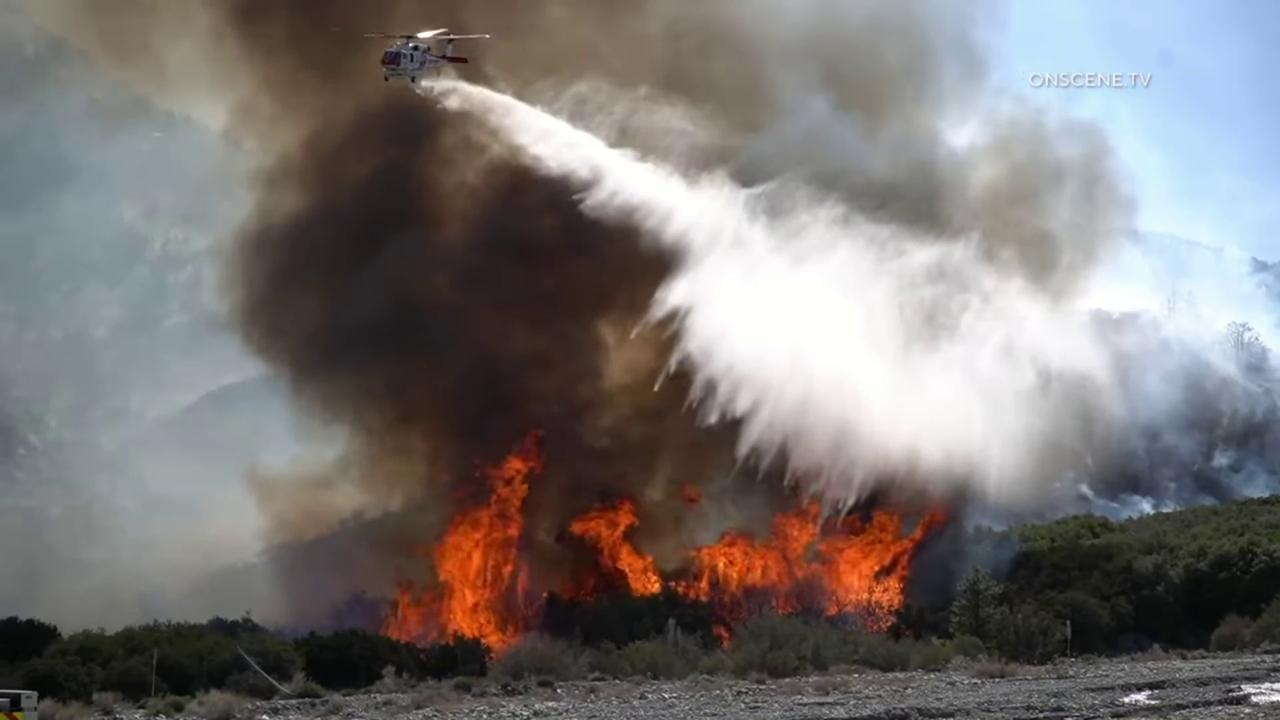fire: (667, 503, 948, 652), (378, 427, 549, 666), (569, 495, 663, 597)
smoke: (0, 0, 1280, 642)
